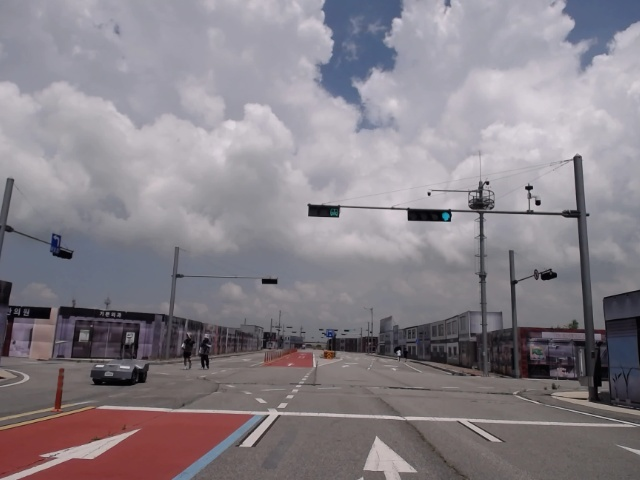straight_green_4: (409, 209, 452, 223)
